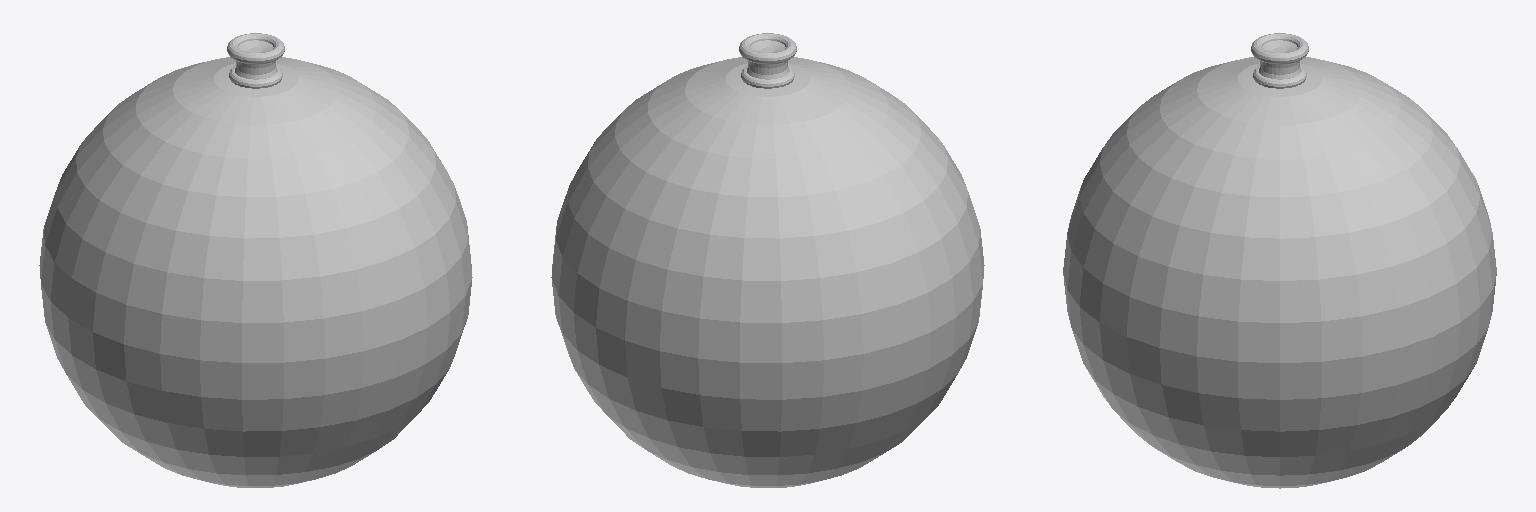
Rendered from balloon.obj.
The picture shows the model from 3 angles: view 1: azimuth 30°, elevation 25°; view 2: azimuth 150°, elevation 25°; view 3: azimuth 270°, elevation 25°; orthographic projection.
Parts seen in each view (by area): view 1: Balloon_Sphere; view 2: Balloon_Sphere; view 3: Balloon_Sphere.
Part boxes in pixels (bbox=[...]): Balloon_Sphere: bbox=[39, 33, 472, 487]; Balloon_Sphere: bbox=[551, 33, 984, 487]; Balloon_Sphere: bbox=[1063, 33, 1496, 488].
Bounding box in the file's own units: 0.6181 × 0.6676 × 0.6181.